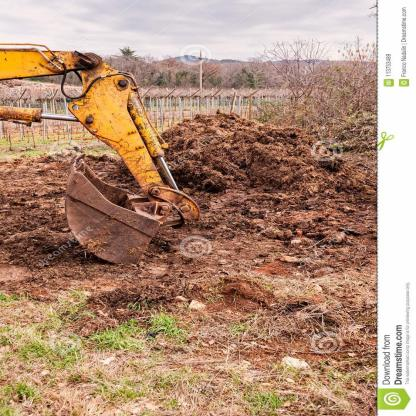excavator: (0, 37, 210, 274)
